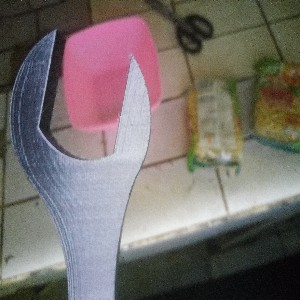spanner: (9, 28, 151, 300)
